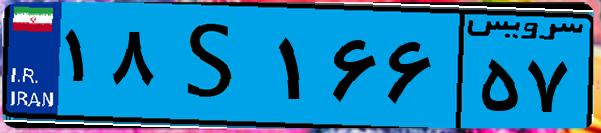1: (270, 28, 330, 110), (57, 26, 110, 100)
5: (475, 38, 525, 113)
6: (385, 28, 445, 110), (330, 28, 385, 110)
7: (525, 38, 570, 115)
8: (110, 28, 158, 98)
S: (158, 12, 270, 120)
